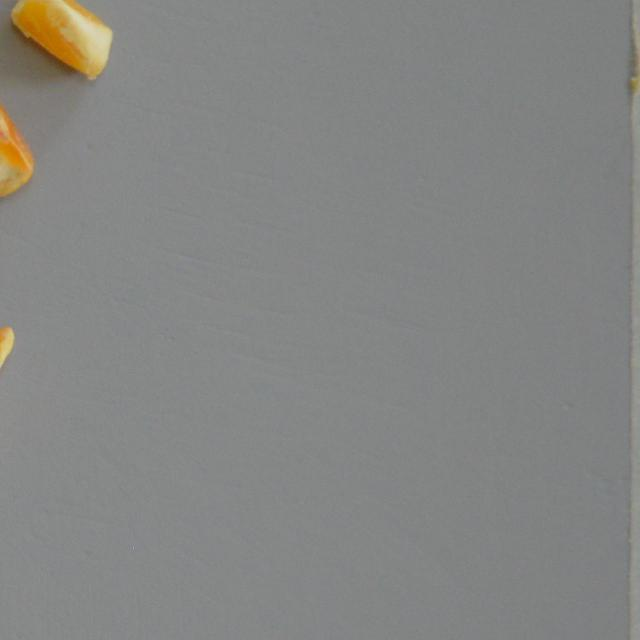dañado: (0, 70, 39, 202)
pelicula: (8, 0, 114, 81), (0, 322, 16, 461)
